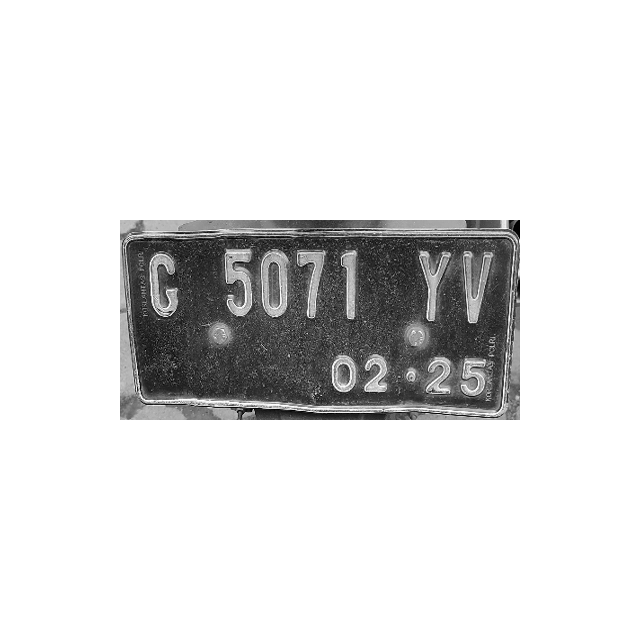contain: (460, 246, 501, 330), (414, 244, 452, 324), (146, 248, 184, 323), (256, 243, 292, 322), (293, 246, 328, 324), (223, 243, 257, 319), (334, 245, 366, 325)
